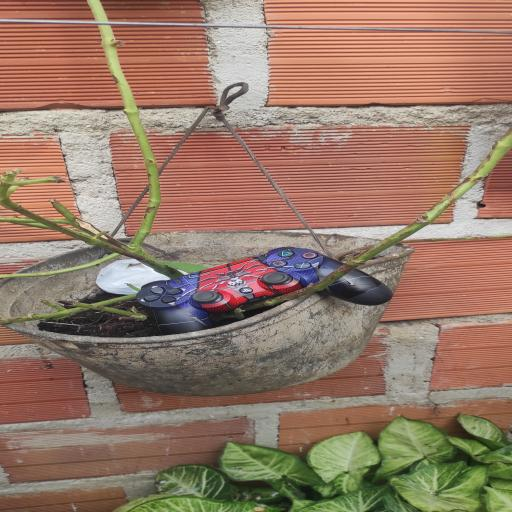ControlPlay4: (136, 246, 339, 334), (327, 270, 392, 305)
